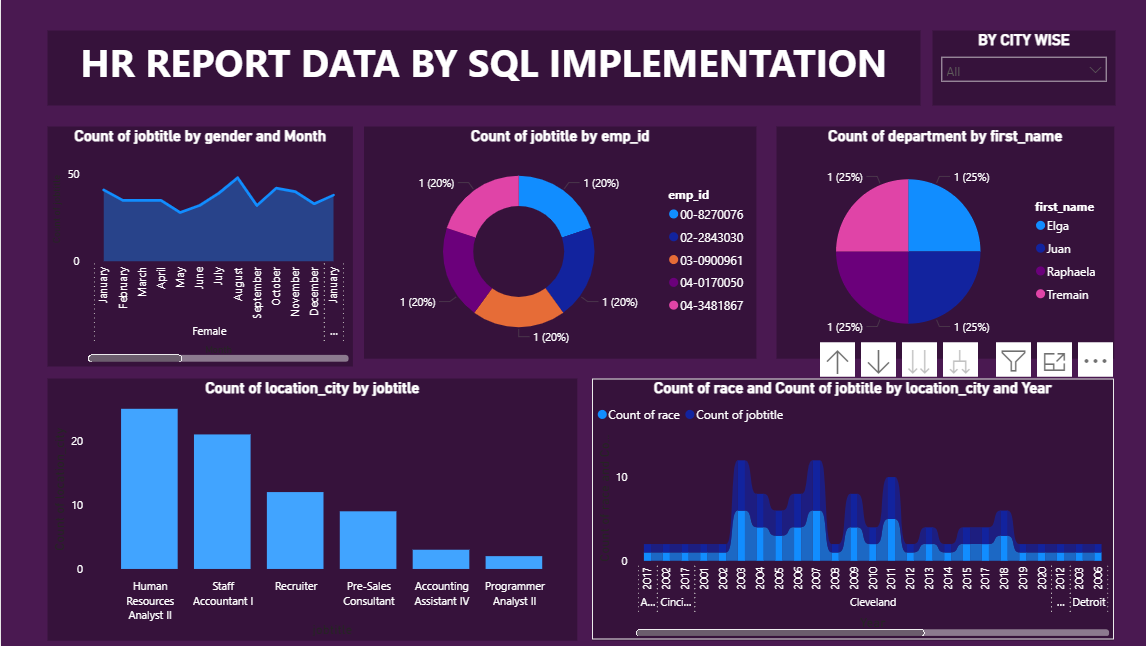

Layout of this report page (visuals, bound fields, positions):
{"tool":"powerbi","page":{"name":"Page 1","canvas":[1280,720],"ordinal":0},"visuals":[{"type":"donutChart","fields":{"Category":["HR.emp_id"],"Y":["CountNonNull(HR.jobtitle)"]},"box":[402.6,141.8,436.2,257.7],"z":0},{"type":"pieChart","fields":{"Category":["HR.first_name"],"Y":["CountNonNull(HR.department)"]},"box":[861.6,141.8,375.2,257.7],"z":1000},{"type":"clusteredColumnChart","fields":{"Category":["HR.jobtitle"],"Y":["CountNonNull(HR.location_city)"]},"box":[51.9,420.9,588.7,291.3],"z":2000},{"type":"ribbonChart","fields":{"Category":["HR.location_city","HR.hire_date.Variation.Date Hierarchy.Year"],"Y":["CountNonNull(HR.race)","CountNonNull(HR.jobtitle)"]},"box":[657.3,420.9,579.5,291.3],"z":3000},{"type":"slicer","title":"SELECT CITY","fields":{"Values":["HR.location_city"]},"box":[1034.2,34.4,203.4,83.1],"z":4000},{"type":"areaChart","fields":{"Category":["HR.gender","HR.hire_date.Variation.Date Hierarchy.Month"],"Y":["CountNonNull(HR.jobtitle)"]},"box":[51.6,141.8,339.5,266.4],"z":5000},{"type":"textbox","box":[51.6,34.4,969.7,83.1],"z":6000}]}

Visuals, with their boxes in screenshot pixels (x1, y1, x2, y2), scaled from the page's 1280x720 canvas onto the 1146x646 screenshot:
donutChart - HR.emp_id x CountNonNull(HR.jobtitle): Rect(360, 127, 751, 358)
pieChart - HR.first_name x CountNonNull(HR.department): Rect(771, 127, 1107, 358)
clusteredColumnChart - HR.jobtitle x CountNonNull(HR.location_city): Rect(46, 378, 574, 639)
ribbonChart - HR.location_city x HR.hire_date.Variation.Date Hierarchy.Year: Rect(588, 378, 1107, 639)
"SELECT CITY" slicer: Rect(926, 31, 1108, 105)
areaChart - HR.gender x HR.hire_date.Variation.Date Hierarchy.Month: Rect(46, 127, 350, 366)
textbox: Rect(46, 31, 914, 105)
